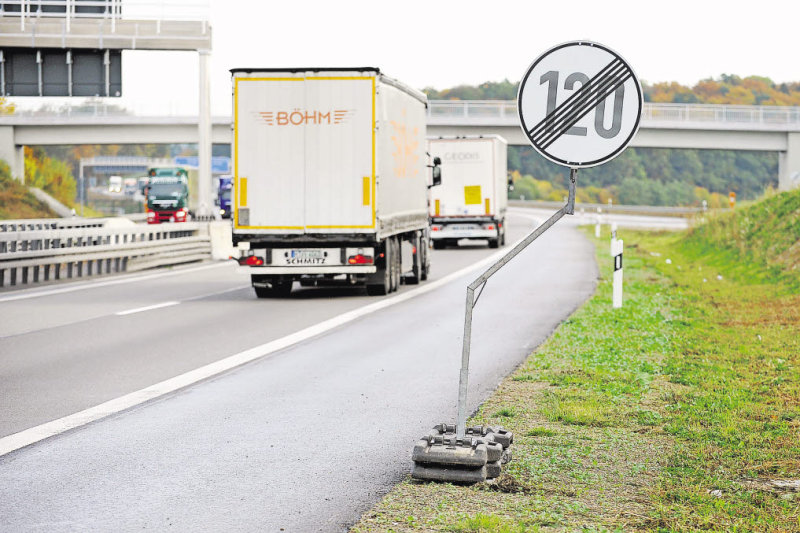aufgehoben: (519, 41, 644, 167)
